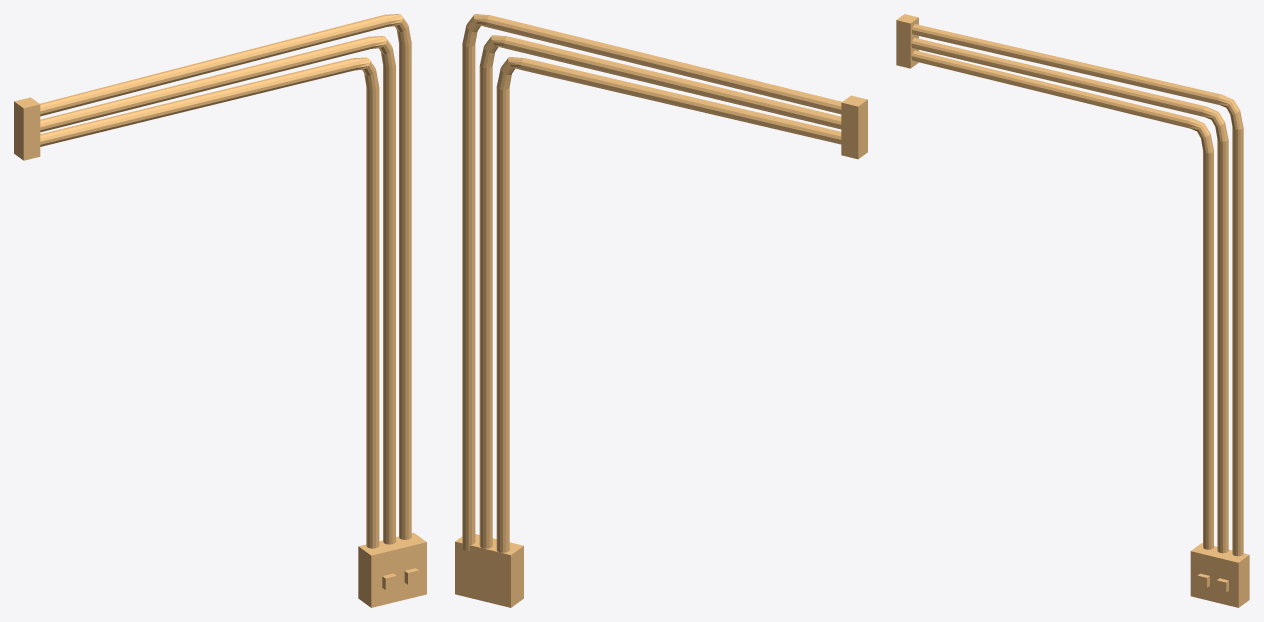
3 renders of one model, left to right at view 1: azimuth 30°, elevation 25°; view 2: azimuth 150°, elevation 25°; view 3: azimuth 330°, elevation 25°, orthographic. The views are drawn at different scales.
Bounding box in the file's own units: 0.72 × 1 × 0.0523.
